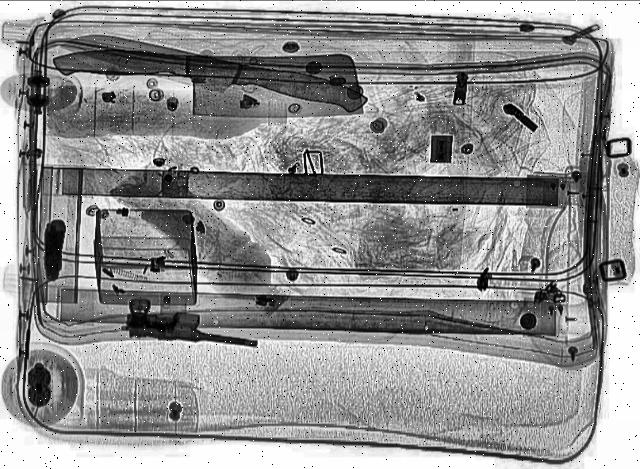Gun: (122, 299, 264, 351), (39, 221, 67, 281)
Knife: (52, 29, 374, 118), (50, 49, 364, 120)
